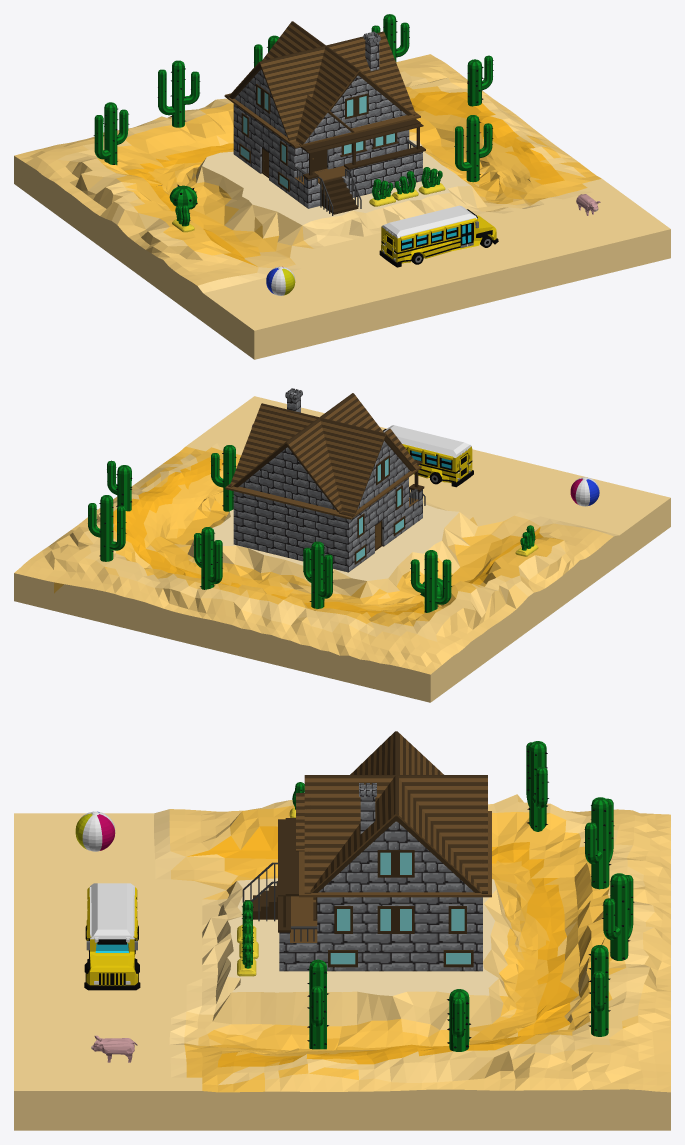
The picture shows the model from 3 angles, top to bottom: view 1: azimuth 30°, elevation 25°; view 2: azimuth 150°, elevation 25°; view 3: azimuth 270°, elevation 25°; orthographic projection. The views are drawn at different scales.
Visible parts, largest first — view 1: Cube.001, Cube.586, VEHICLES_SCHOOL_BUS, Cylinder.037, Cylinder.044, Cylinder.045, Cylinder.038, Cylinder.042, OBJRANDOM_BEACHBALL, Cylinder.039, Cylinder.041, Sphere.023 (+1 smaller); view 2: Cube.001, Cube.586, VEHICLES_SCHOOL_BUS, Cylinder.042, Cylinder.045, Cylinder.044, Cylinder.043, Cylinder.037, Cylinder.038, OBJRANDOM_BEACHBALL; view 3: Cube.001, Cube.586, VEHICLES_SCHOOL_BUS, Cylinder.043, Cylinder.044, Cylinder.045, Cylinder.042, Cylinder.037, OBJRANDOM_BEACHBALL, Cylinder.038, ANIMAL_CERDO, Cylinder.041.
Boxes of the visible parts, left/top/right/bottom form: Cube.001: left=14, top=54, right=670, bottom=359; Cube.586: left=224, top=21, right=425, bottom=215; VEHICLES_SCHOOL_BUS: left=379, top=205, right=498, bottom=267; Cylinder.037: left=454, top=115, right=493, bottom=182; Cylinder.044: left=157, top=60, right=200, bottom=127; Cylinder.045: left=93, top=102, right=129, bottom=164; Cylinder.038: left=467, top=55, right=493, bottom=106; Cylinder.042: left=371, top=14, right=409, bottom=62; OBJRANDOM_BEACHBALL: left=266, top=266, right=295, bottom=295; Cylinder.039: left=369, top=179, right=395, bottom=206; Cylinder.041: left=418, top=167, right=445, bottom=194; Sphere.023: left=169, top=184, right=197, bottom=209; Cube.001: left=14, top=396, right=670, bottom=702; Cube.586: left=225, top=388, right=425, bottom=572; VEHICLES_SCHOOL_BUS: left=383, top=425, right=473, bottom=487; Cylinder.042: left=88, top=495, right=126, bottom=561; Cylinder.045: left=410, top=550, right=452, bottom=612; Cylinder.044: left=303, top=541, right=333, bottom=608; Cylinder.043: left=193, top=527, right=222, bottom=589; Cylinder.037: left=211, top=445, right=240, bottom=511; Cylinder.038: left=107, top=460, right=132, bottom=511; OBJRANDOM_BEACHBALL: left=570, top=477, right=599, bottom=506; Cube.001: left=14, top=794, right=670, bottom=1130; Cube.586: left=242, top=731, right=491, bottom=971; VEHICLES_SCHOOL_BUS: left=84, top=883, right=140, bottom=990; Cylinder.043: left=602, top=873, right=634, bottom=960; Cylinder.044: left=584, top=797, right=614, bottom=889; Cylinder.045: left=526, top=741, right=548, bottom=831; Cylinder.042: left=588, top=945, right=610, bottom=1036; Cylinder.037: left=307, top=959, right=328, bottom=1049; OBJRANDOM_BEACHBALL: left=75, top=811, right=115, bottom=851; Cylinder.038: left=447, top=989, right=471, bottom=1051; ANIMAL_CERDO: left=91, top=1035, right=137, bottom=1062; Cylinder.041: left=237, top=933, right=256, bottom=976.
Bounding box in the file's own units: 4002 × 1640 × 4001.
Materials: 32 (3 with a texture image).
